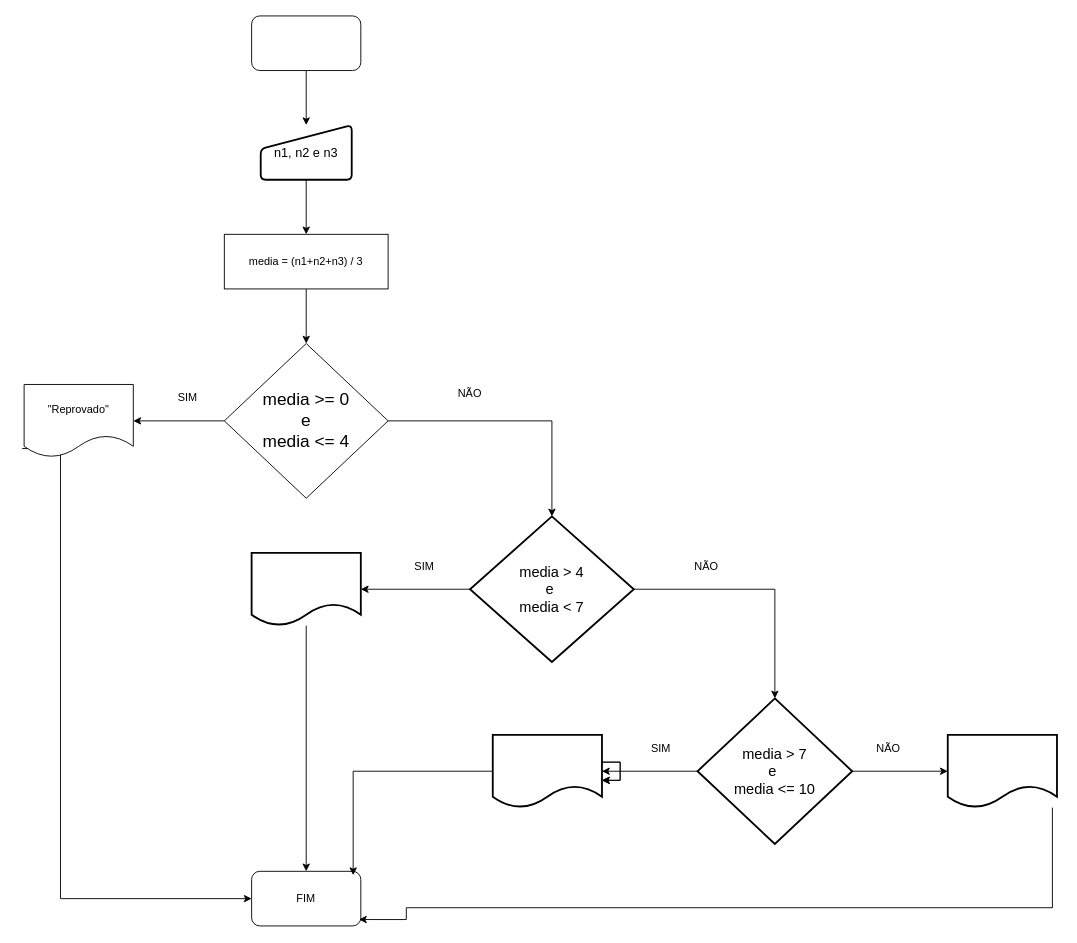
Image size: 1077x943. Some labels were removed from this diagram. Each missing label, with the box of its shape:
"APROVADO": (491, 733, 602, 808)
"Erro de digitação": (946, 733, 1057, 808)
"RECUPERAÇÃO": (250, 551, 361, 626)
INÍCIO: (251, 15, 361, 71)
